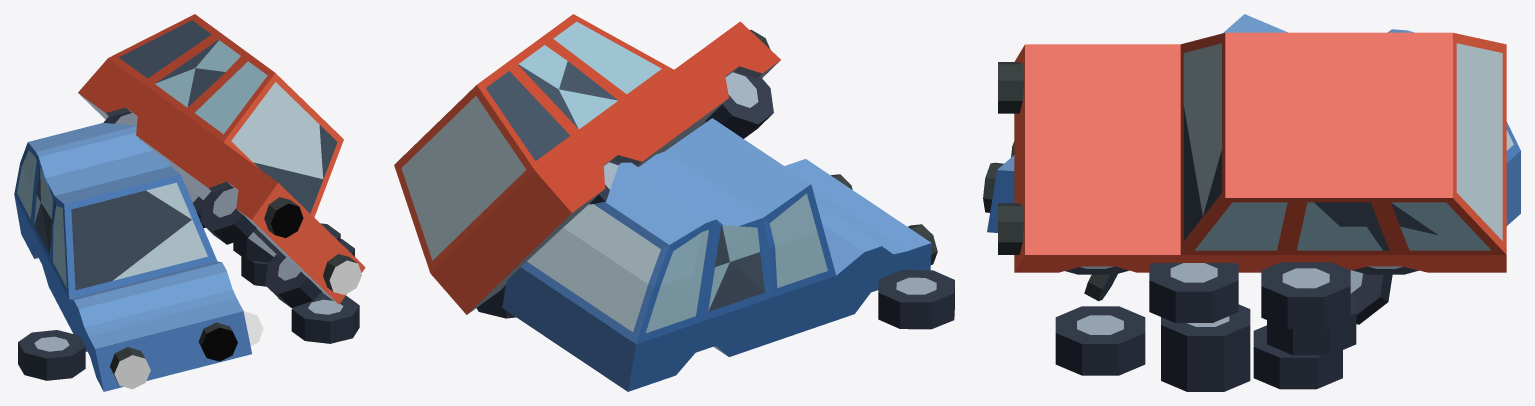
File: Car_blue2.fbx
3 renders of one model, left to right at view 1: azimuth 30°, elevation 25°; view 2: azimuth 150°, elevation 25°; view 3: azimuth 270°, elevation 25°, orthographic. The views are drawn at different scales.
Parts seen in each view (by area): view 1: Car_blue1; view 2: Car_blue1; view 3: Car_blue1.
Boxes of the visible parts, x1,y1,x2,y2 form: Car_blue1: (14, 14, 365, 391); Car_blue1: (394, 14, 954, 391); Car_blue1: (983, 14, 1520, 391).
Bounding box in the file's own units: 5.26 × 3.25 × 4.92.
Materials: 1 (1 with a texture image).
